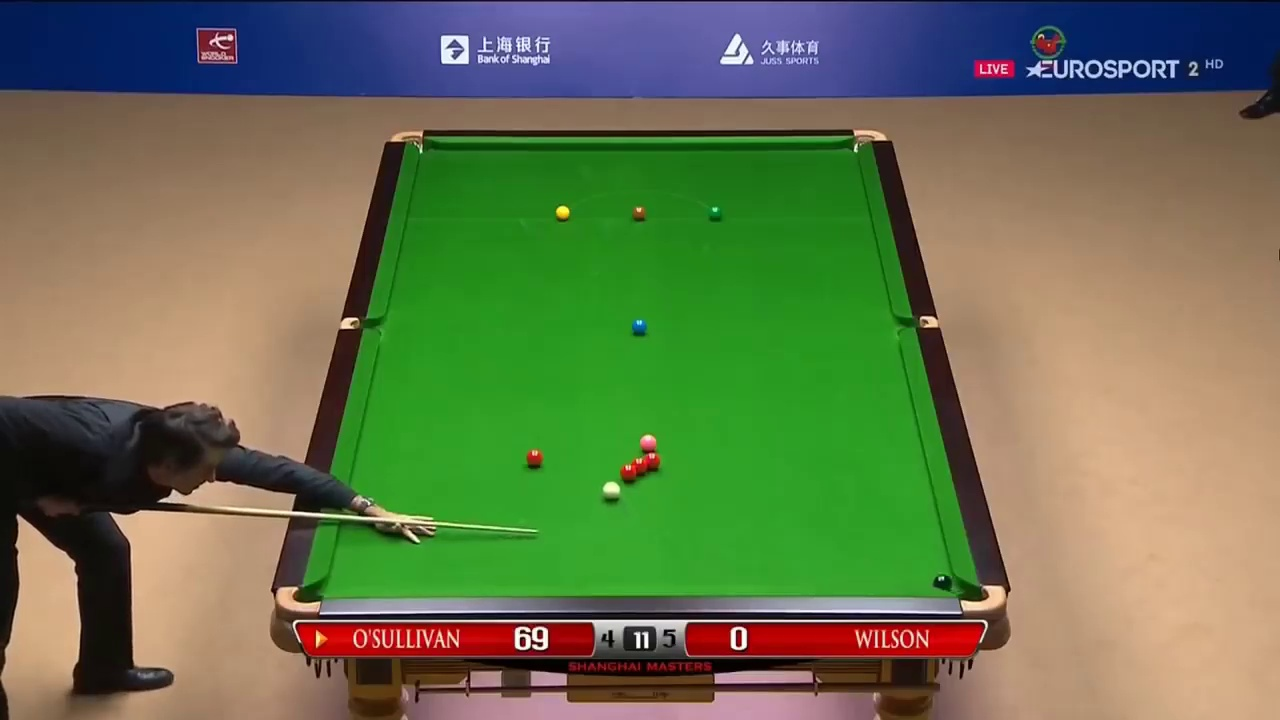ball: (522, 447, 545, 467), (639, 432, 658, 450), (601, 482, 620, 499), (553, 204, 573, 220), (631, 204, 647, 220), (707, 204, 724, 219), (632, 318, 645, 333)
